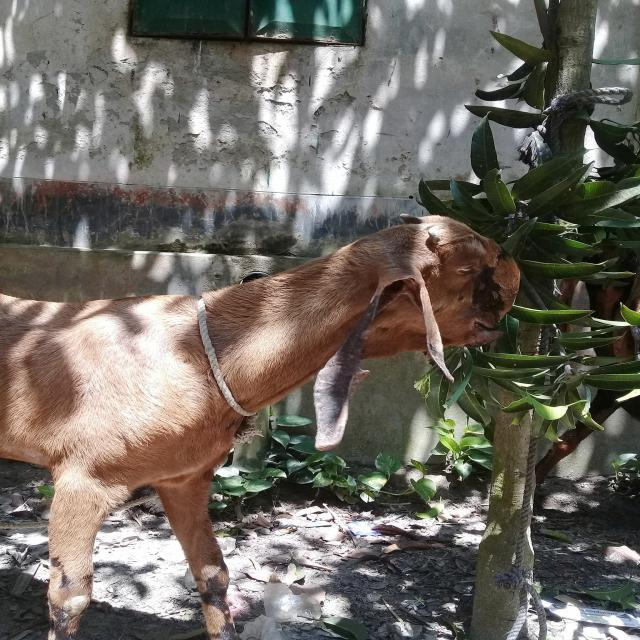Goat: (1, 212, 522, 639)
